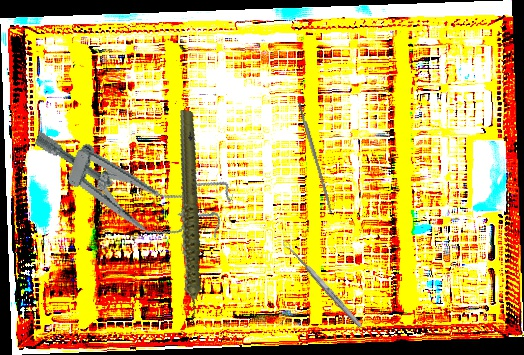Handpiece: (135, 109, 239, 329)
Scalpel Handle: (297, 101, 334, 214)
Speculum: (19, 115, 237, 257)
Surgical Spoon: (281, 238, 364, 330)
